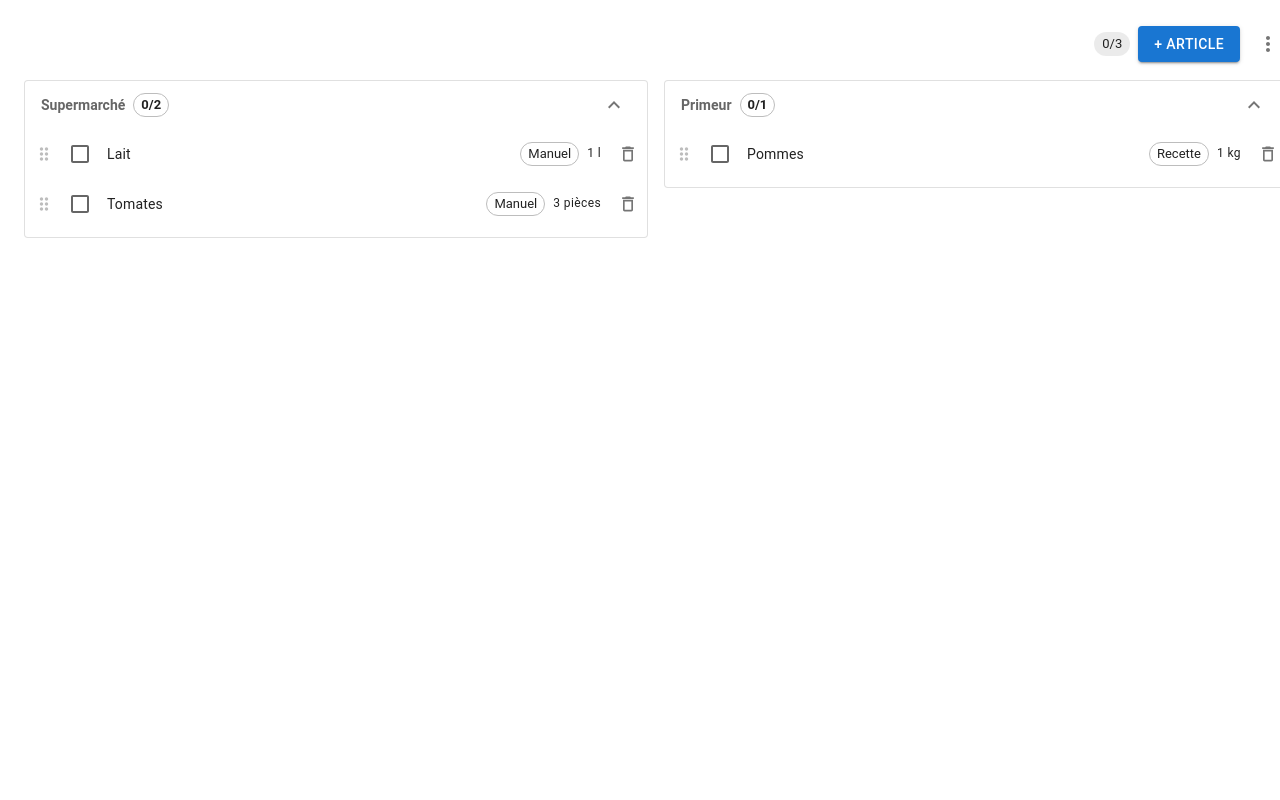
Test: GroceryListView › deleting a line (MAG-283) › asks first, in the page, and deletes nothing until confirmed
The width and height of the screenshot is (1280, 800).
Expected: the text "Lait" is shown, [107,146,131,162]
Click the button named "Supprimer Lait" at (628, 154), box [613,139,643,169]
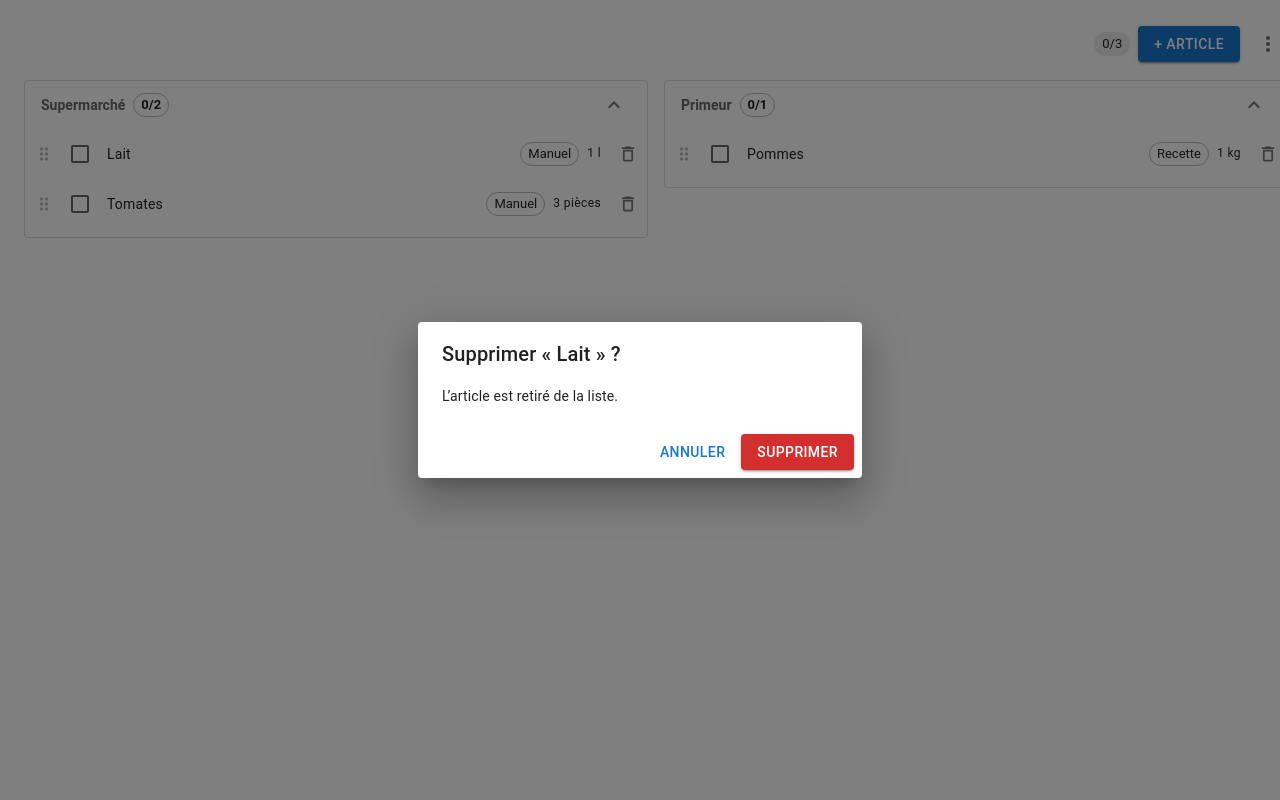
Now the heading "Supprimer « Lait » ?" is shown, box [442,342,621,366]
Click the button "Annuler" at (693, 452), box [652,434,733,470]
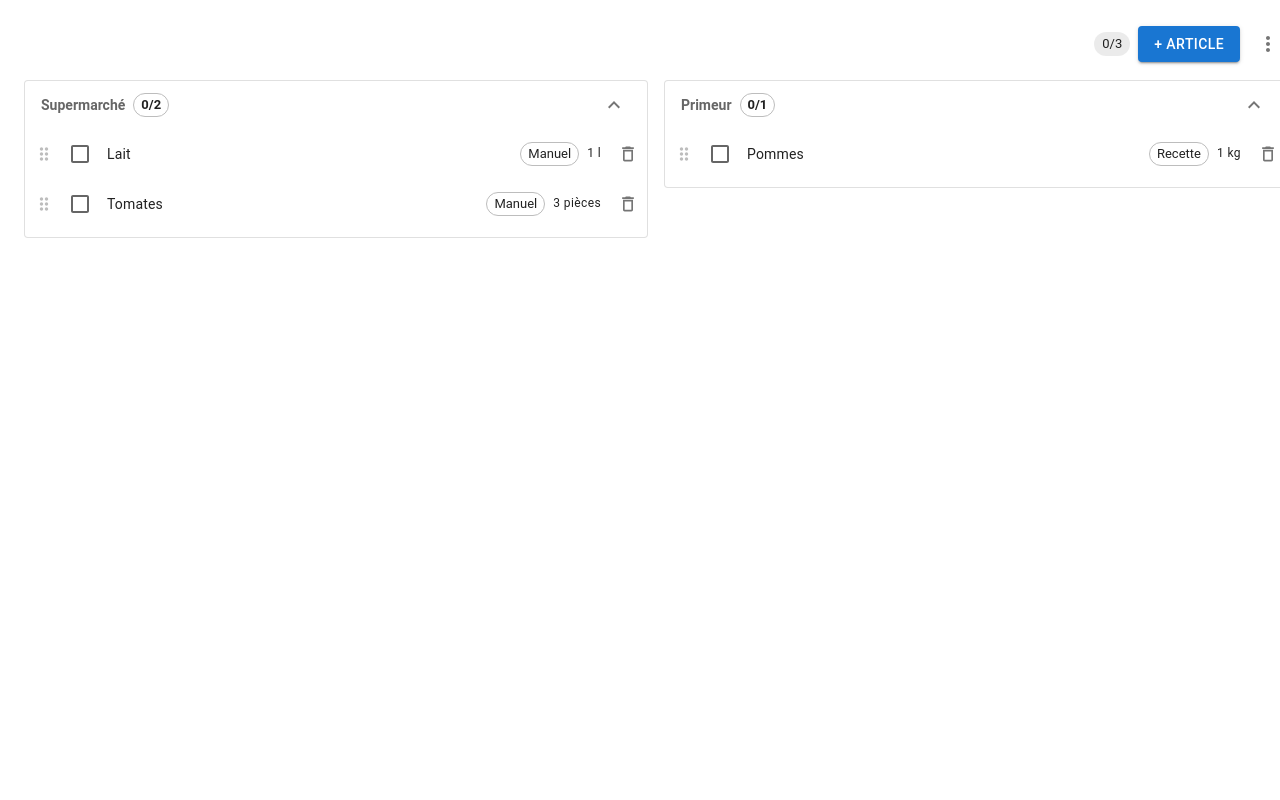
Expected: the text "Lait" is shown, [107,146,131,162]
Now the dialog is gone
